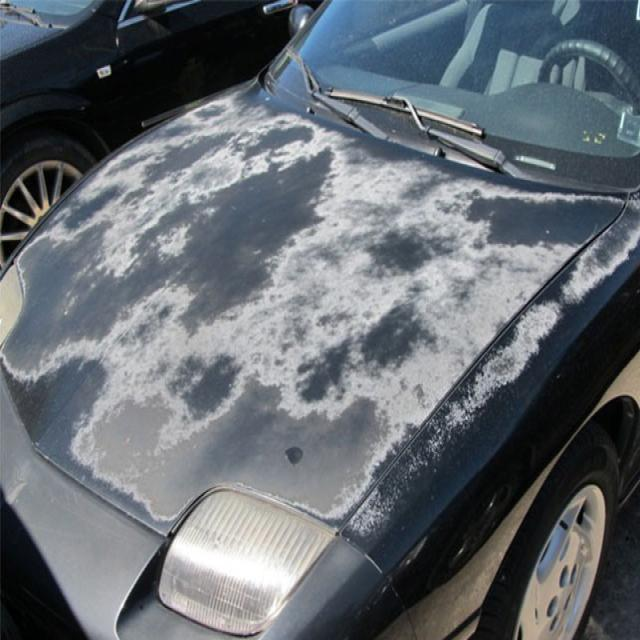scratch: (0, 84, 640, 537)
